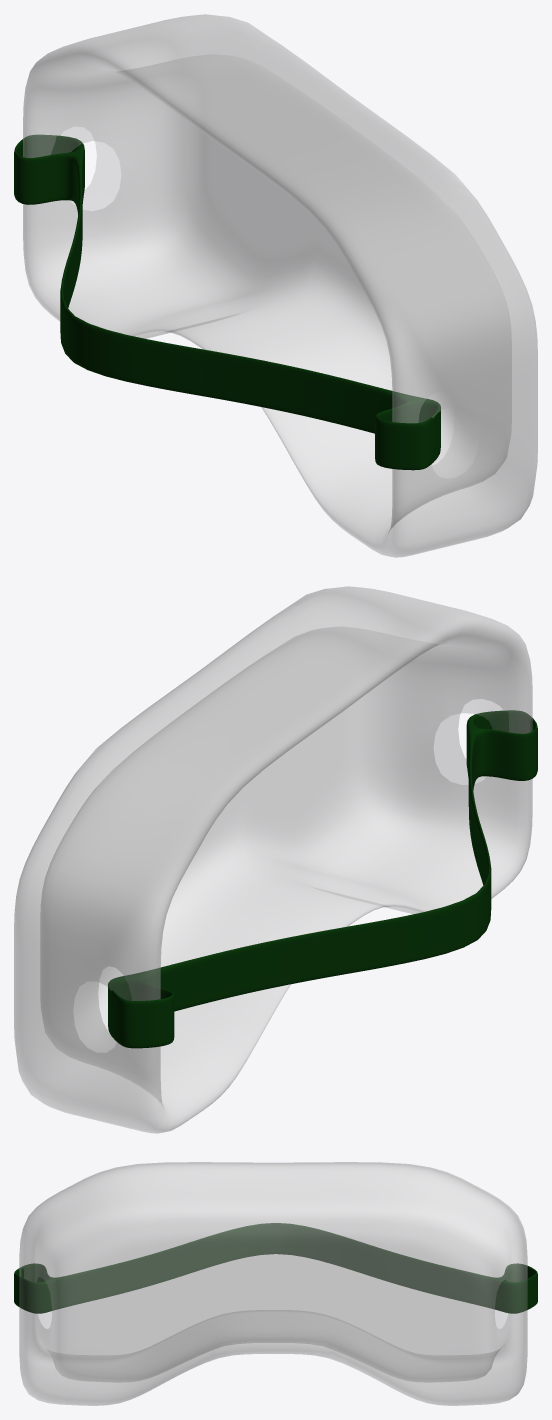
File: goggles.fbx
3 views of the same model, one above another, from view 1: azimuth 30°, elevation 25°; view 2: azimuth 150°, elevation 25°; view 3: azimuth 270°, elevation 25° (orthographic). The views are drawn at different scales.
Visible parts, largest first — view 1: goggles, stripes; view 2: goggles, stripes; view 3: goggles, stripes.
Boxes of the visible parts, bbox=[...] form: goggles: bbox=[23, 14, 537, 557]; stripes: bbox=[14, 135, 440, 470]; goggles: bbox=[14, 586, 532, 1133]; stripes: bbox=[108, 710, 537, 1048]; goggles: bbox=[19, 1162, 527, 1405]; stripes: bbox=[14, 1223, 537, 1313].
Size of the model in its own units: 1.88 by 1.98 by 4.51.
